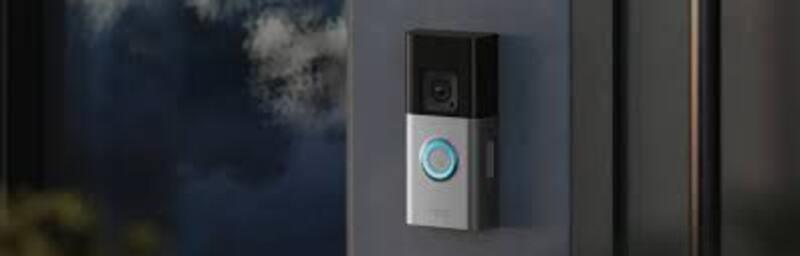doorbell: (394, 22, 504, 236)
